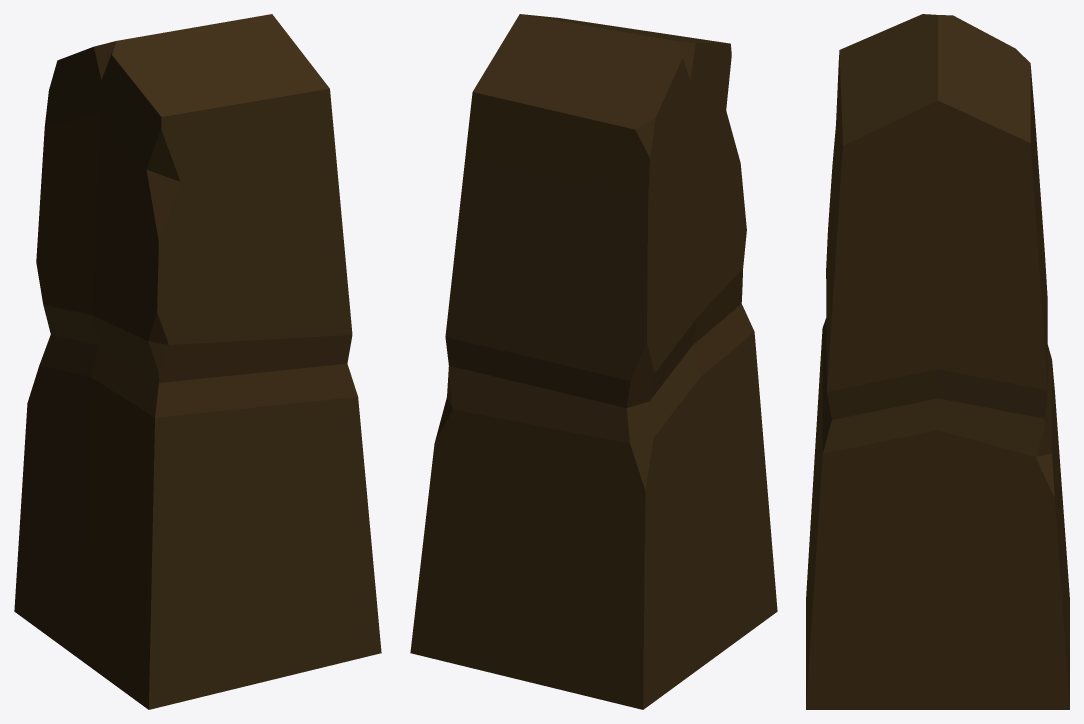
Rendered from Pillar4.fbx.
The picture shows the model from 3 angles, left to right: view 1: azimuth 30°, elevation 25°; view 2: azimuth 150°, elevation 25°; view 3: azimuth 270°, elevation 25°; orthographic projection.
Visible parts, largest first — view 1: 立方体.006; view 2: 立方体.006; view 3: 立方体.006.
Part boxes in pixels (x1,y1,x2,y2): 立方体.006: [14, 14, 381, 709]; 立方体.006: [410, 14, 777, 709]; 立方体.006: [806, 14, 1069, 709].
Size of the model in its own units: 2 by 5.02 by 2.
